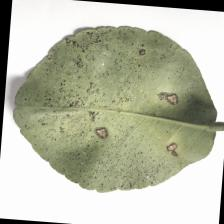canker: (54, 37, 191, 174)
